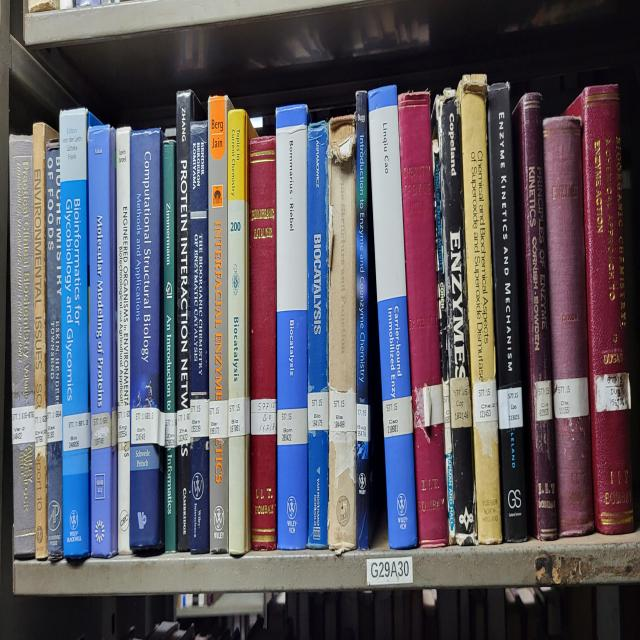Book: (566, 84, 634, 533), (368, 87, 418, 549), (398, 92, 448, 547), (542, 116, 594, 536), (458, 73, 502, 544), (512, 92, 558, 541), (436, 89, 478, 544), (488, 84, 528, 541), (60, 108, 100, 560), (130, 130, 164, 552), (88, 124, 118, 557), (176, 89, 204, 552), (228, 111, 256, 555), (328, 116, 356, 552), (32, 122, 58, 560), (249, 135, 276, 549), (9, 135, 35, 557), (208, 95, 232, 552), (308, 122, 329, 549), (190, 122, 210, 552), (356, 92, 372, 549), (46, 143, 62, 560), (162, 141, 178, 552), (116, 127, 131, 555), (289, 319, 294, 376)
Label: (554, 376, 589, 419), (594, 373, 631, 411), (382, 395, 412, 438), (329, 387, 356, 433), (472, 379, 498, 425), (62, 411, 90, 452), (450, 376, 472, 427), (278, 409, 308, 446), (131, 406, 160, 444), (498, 387, 522, 430), (251, 398, 276, 436), (11, 406, 35, 444), (308, 392, 329, 430), (229, 398, 250, 436), (190, 398, 209, 438), (91, 411, 111, 449), (209, 400, 228, 438), (535, 381, 552, 422), (428, 384, 444, 425), (48, 403, 62, 444), (176, 409, 191, 446), (356, 403, 370, 441), (34, 409, 48, 446), (165, 411, 178, 449), (118, 406, 130, 444)
